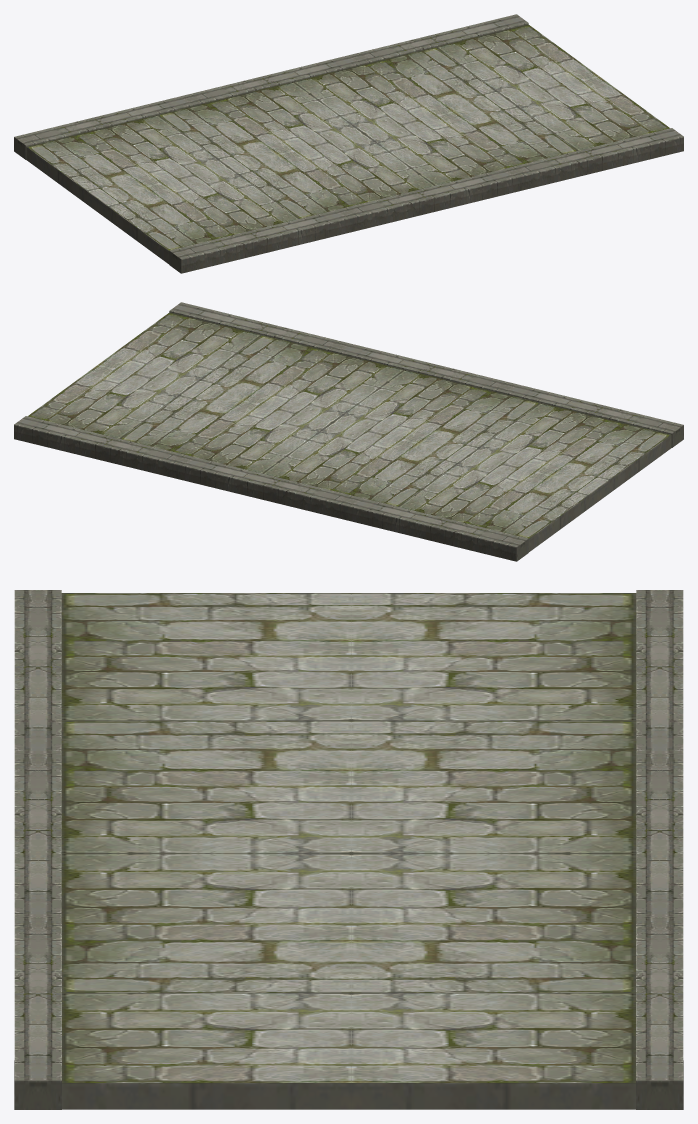
Rendered from Hangzhou_wj_017.FBX.
The picture shows the model from 3 angles, top to bottom: view 1: azimuth 30°, elevation 25°; view 2: azimuth 150°, elevation 25°; view 3: azimuth 270°, elevation 25°; orthographic projection. The views are drawn at different scales.
Visible parts, largest first — view 1: diban; view 2: diban; view 3: diban.
Boxes of the visible parts, <box> form: diban: <box>14,14,683,273</box>; diban: <box>14,302,683,561</box>; diban: <box>14,590,683,1109</box>.
Size of the model in its own units: 725 by 20.05 by 418.
